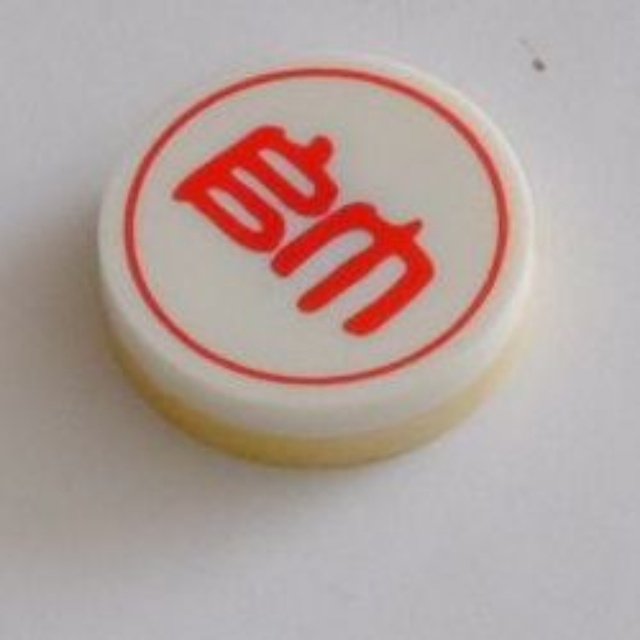red_tuong: (84, 43, 555, 473)
